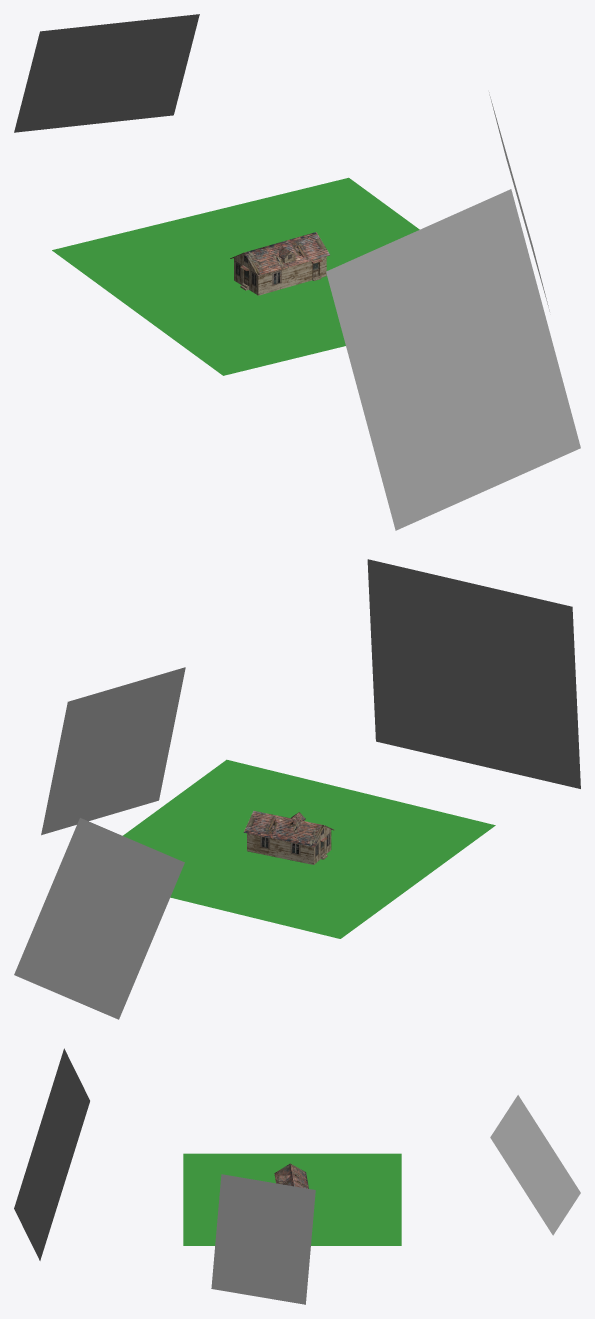
The model's file is cottage_obj.obj.
3 renders of one model, top to bottom at view 1: azimuth 30°, elevation 25°; view 2: azimuth 150°, elevation 25°; view 3: azimuth 270°, elevation 25°, orthographic. The views are drawn at different scales.
Parts seen in each view (by area): view 1: light_3_Plane.003, ground_Plane.004, light_2_Plane.001, Cube_Cube.002; view 2: light_3_Plane.003, ground_Plane.004, light_2_Plane.001, light_1_Plane.002, Cube_Cube.002; view 3: ground_Plane.004, light_1_Plane.002, light_3_Plane.003, light_2_Plane.001, Cube_Cube.002.
Part boxes in pixels (left/top/right/bottom): light_3_Plane.003: left=326, top=189, right=580, bottom=530; ground_Plane.004: left=52, top=177, right=419, bottom=375; light_2_Plane.001: left=14, top=14, right=199, bottom=132; Cube_Cube.002: left=230, top=232, right=329, bottom=295; light_3_Plane.003: left=367, top=559, right=580, bottom=788; ground_Plane.004: left=123, top=759, right=495, bottom=938; light_2_Plane.001: left=14, top=818, right=184, bottom=1019; light_1_Plane.002: left=41, top=667, right=185, bottom=835; Cube_Cube.002: left=243, top=810, right=334, bottom=864; ground_Plane.004: left=183, top=1153, right=401, bottom=1245; light_1_Plane.002: left=211, top=1174, right=315, bottom=1304; light_3_Plane.003: left=14, top=1048, right=89, bottom=1260; light_2_Plane.001: left=490, top=1095, right=580, bottom=1235; Cube_Cube.002: left=274, top=1163, right=308, bottom=1188.
Bounding box in the file's own units: 173 × 104 × 328.
